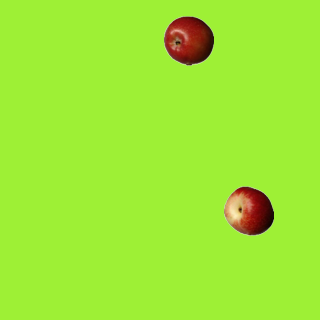Apple Braeburn: (163, 15, 213, 65)
Nectarine: (223, 185, 273, 235)
